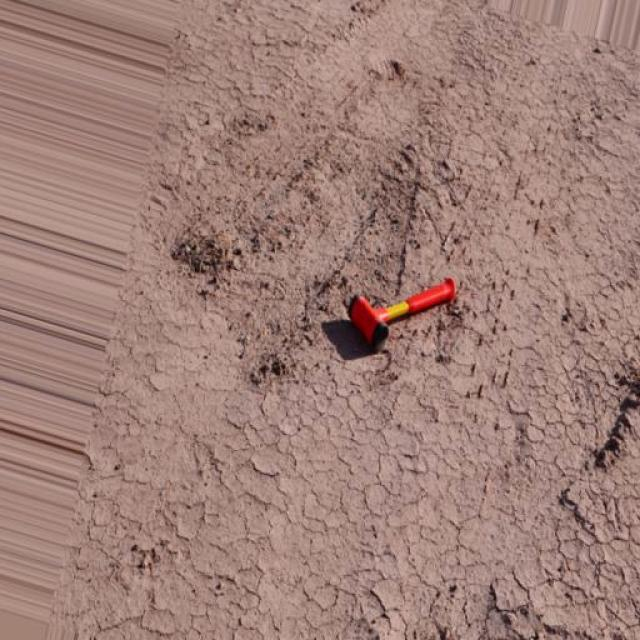mallet: (348, 275, 458, 351)
